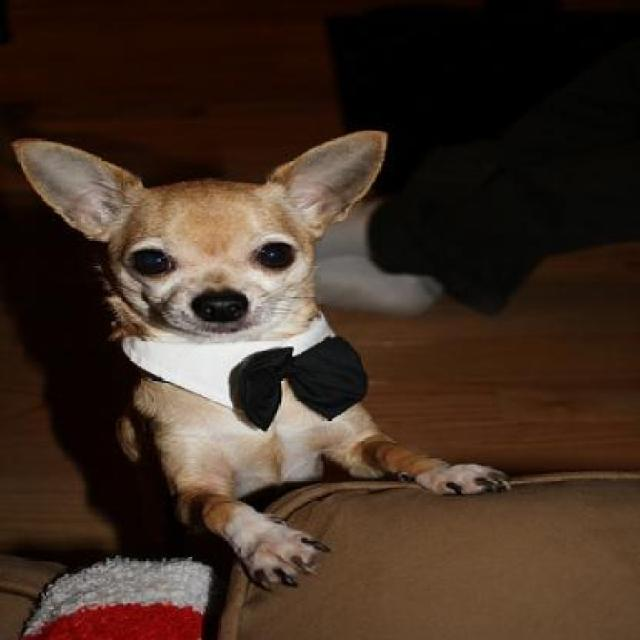Dog: (7, 128, 516, 597)
